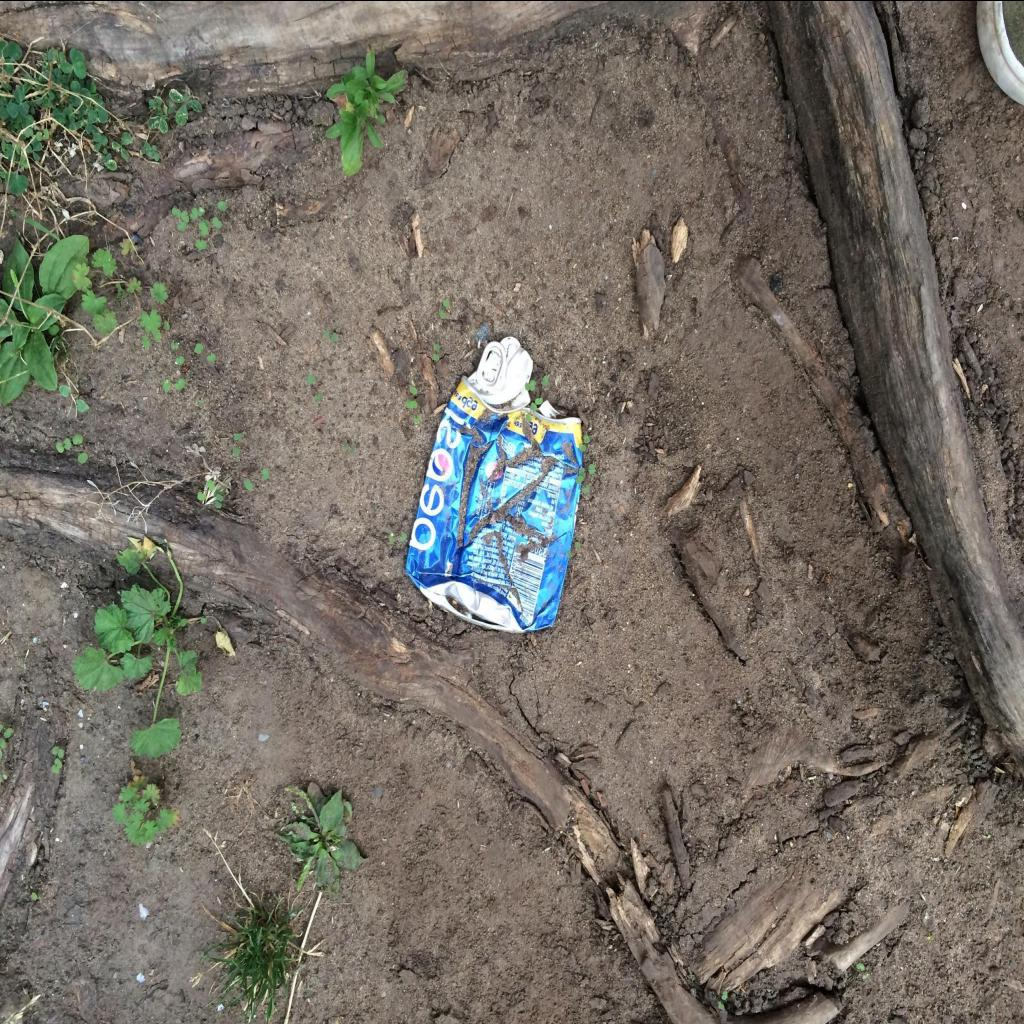Drink can: (404, 336, 582, 632)
Pop tab: (476, 340, 506, 392)
